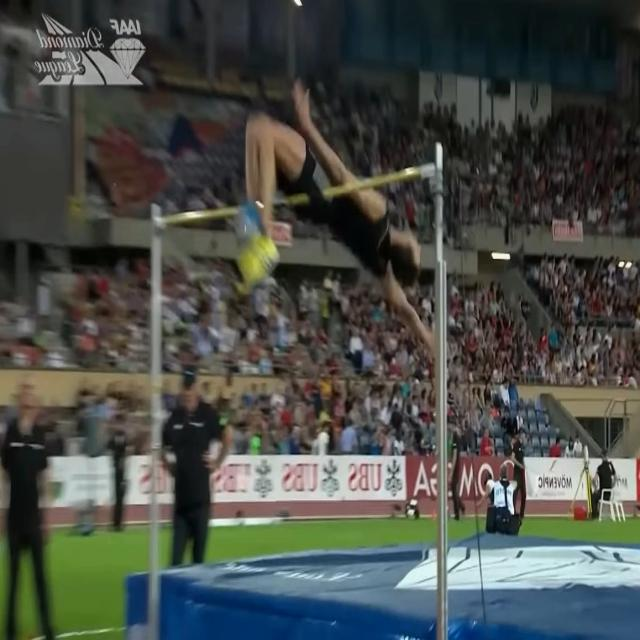jump: (238, 80, 437, 356)
